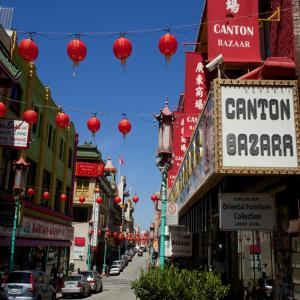Vehicle-registration-plate: (12, 288, 20, 293), (70, 285, 74, 288)
